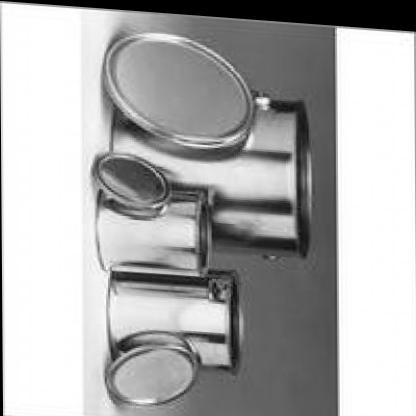Metal: (57, 17, 342, 416)
